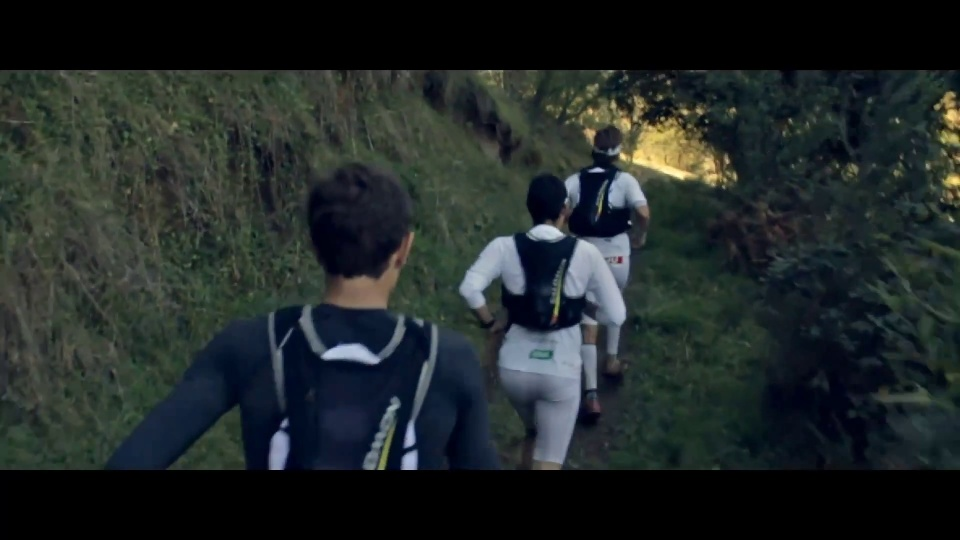person: (88, 170, 505, 472), (458, 165, 624, 477), (533, 150, 649, 439), (566, 124, 654, 394)
